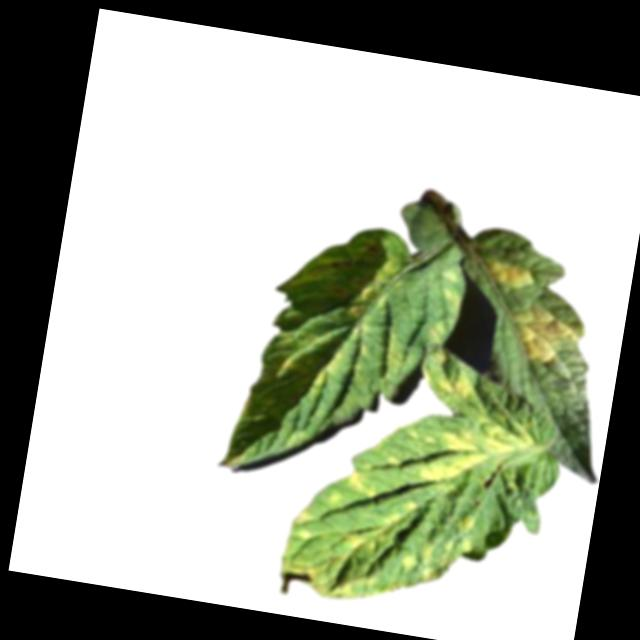Leaf_Mold: (277, 501, 400, 608), (417, 401, 540, 497), (504, 299, 587, 370), (346, 254, 400, 326), (484, 255, 539, 292), (443, 511, 480, 557), (401, 537, 437, 582), (380, 328, 410, 380), (347, 461, 383, 504), (436, 370, 474, 403), (276, 353, 310, 375), (439, 286, 465, 313)
